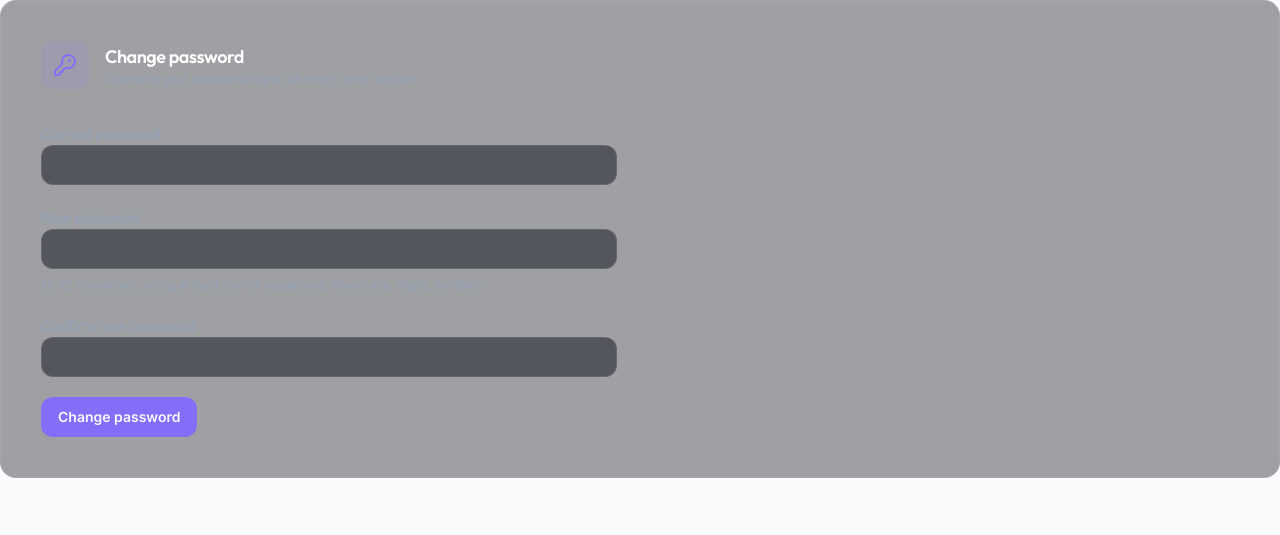
PasswordSettings › refuses a mismatched confirmation without sending anything
Type "old-password-1" into the password field labelled "Current password" at (329, 165), box [41,145,617,185]
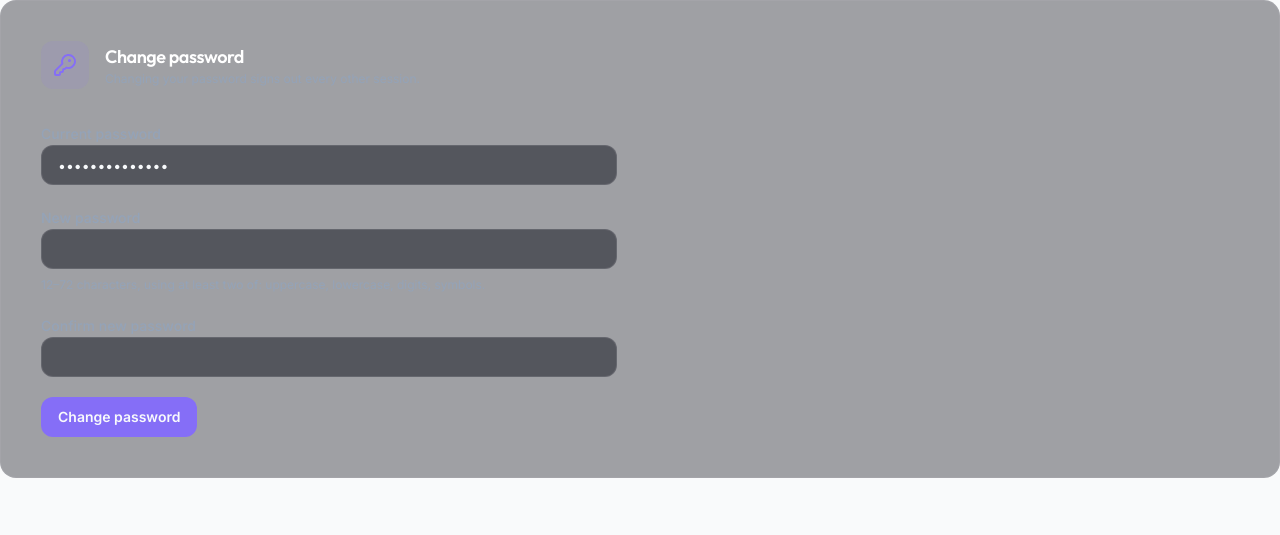
Type "Rotated-Passphrase-2026" into the password field labelled "New password" at (329, 249), box [41,229,617,269]
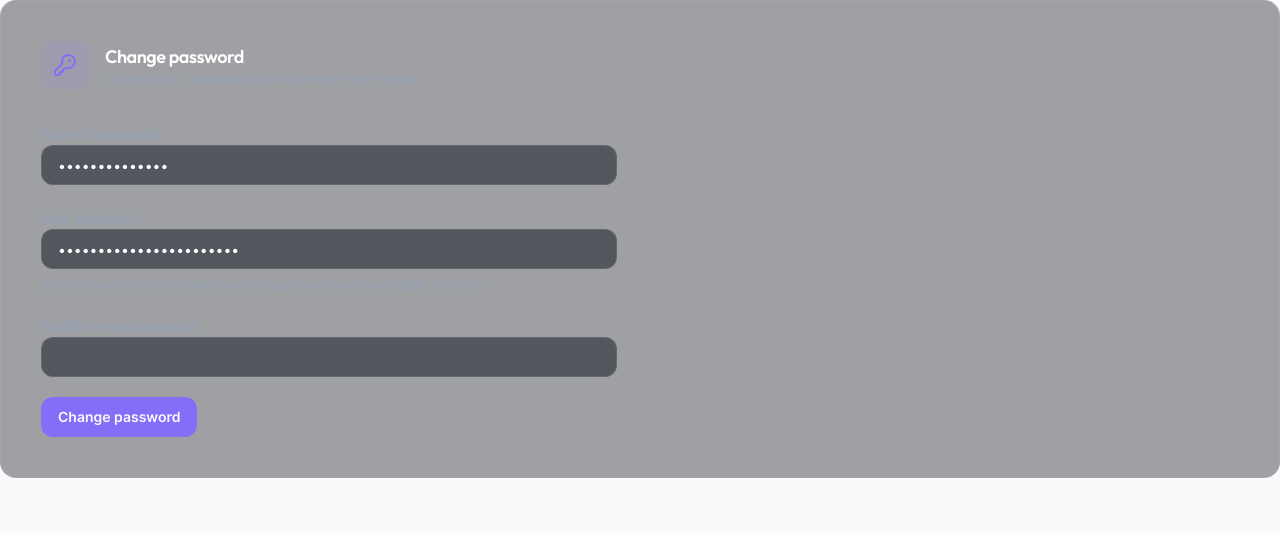
Type "Rotated-Passphrase-2027" into the password field labelled "Confirm new password" at (329, 357), box [41,337,617,377]
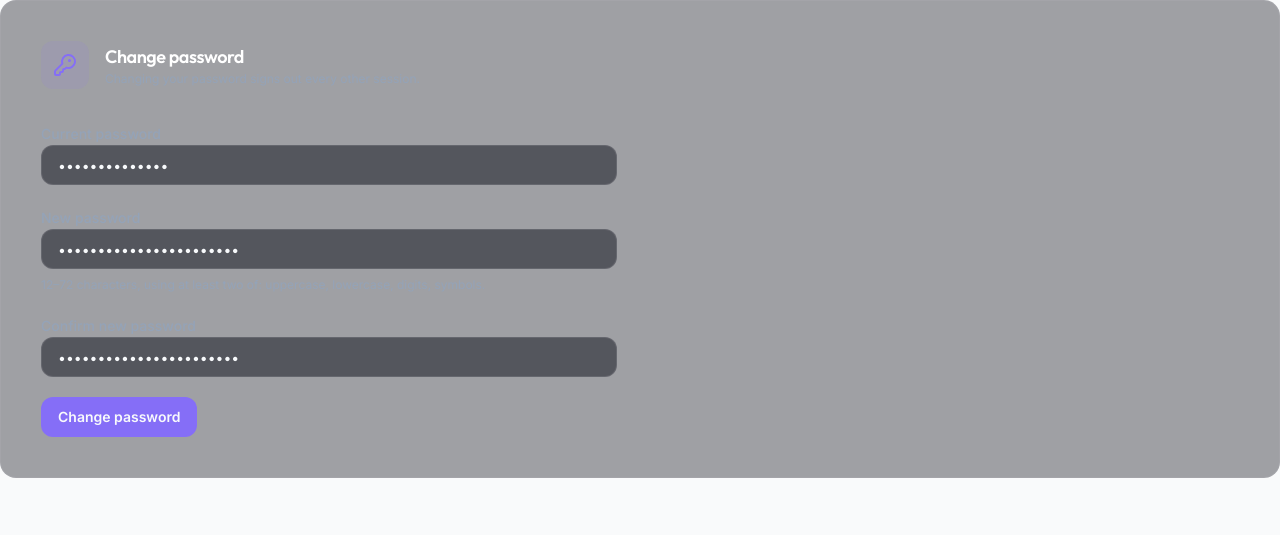
Click the button "Change password" at (119, 417), box [41,397,197,437]
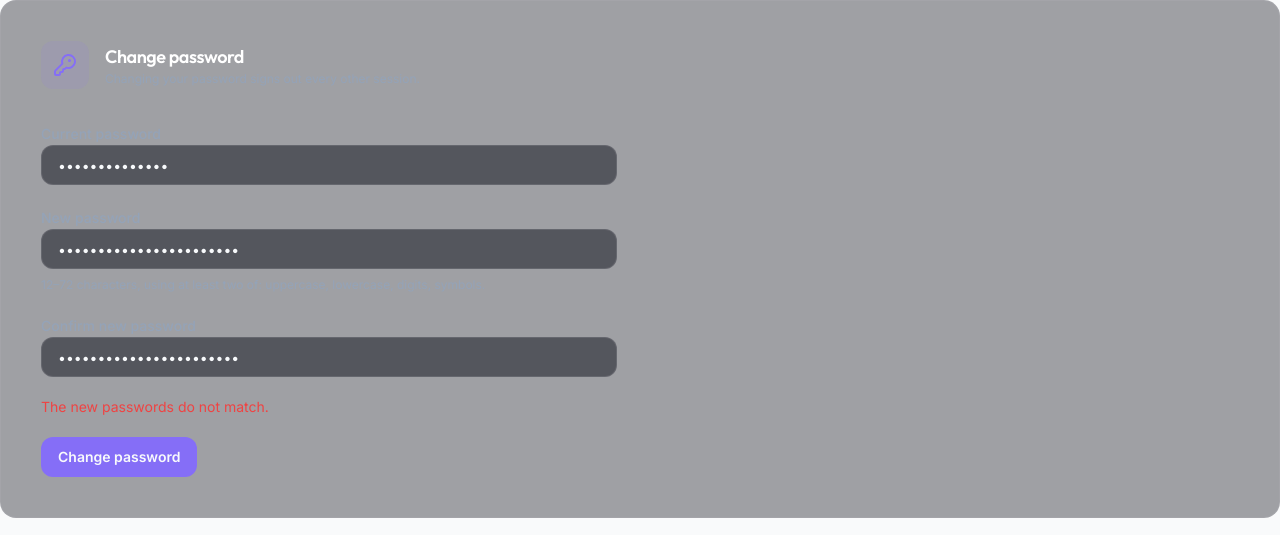
Check: the message reads "The new passwords do not match.", box [41,398,269,415]
